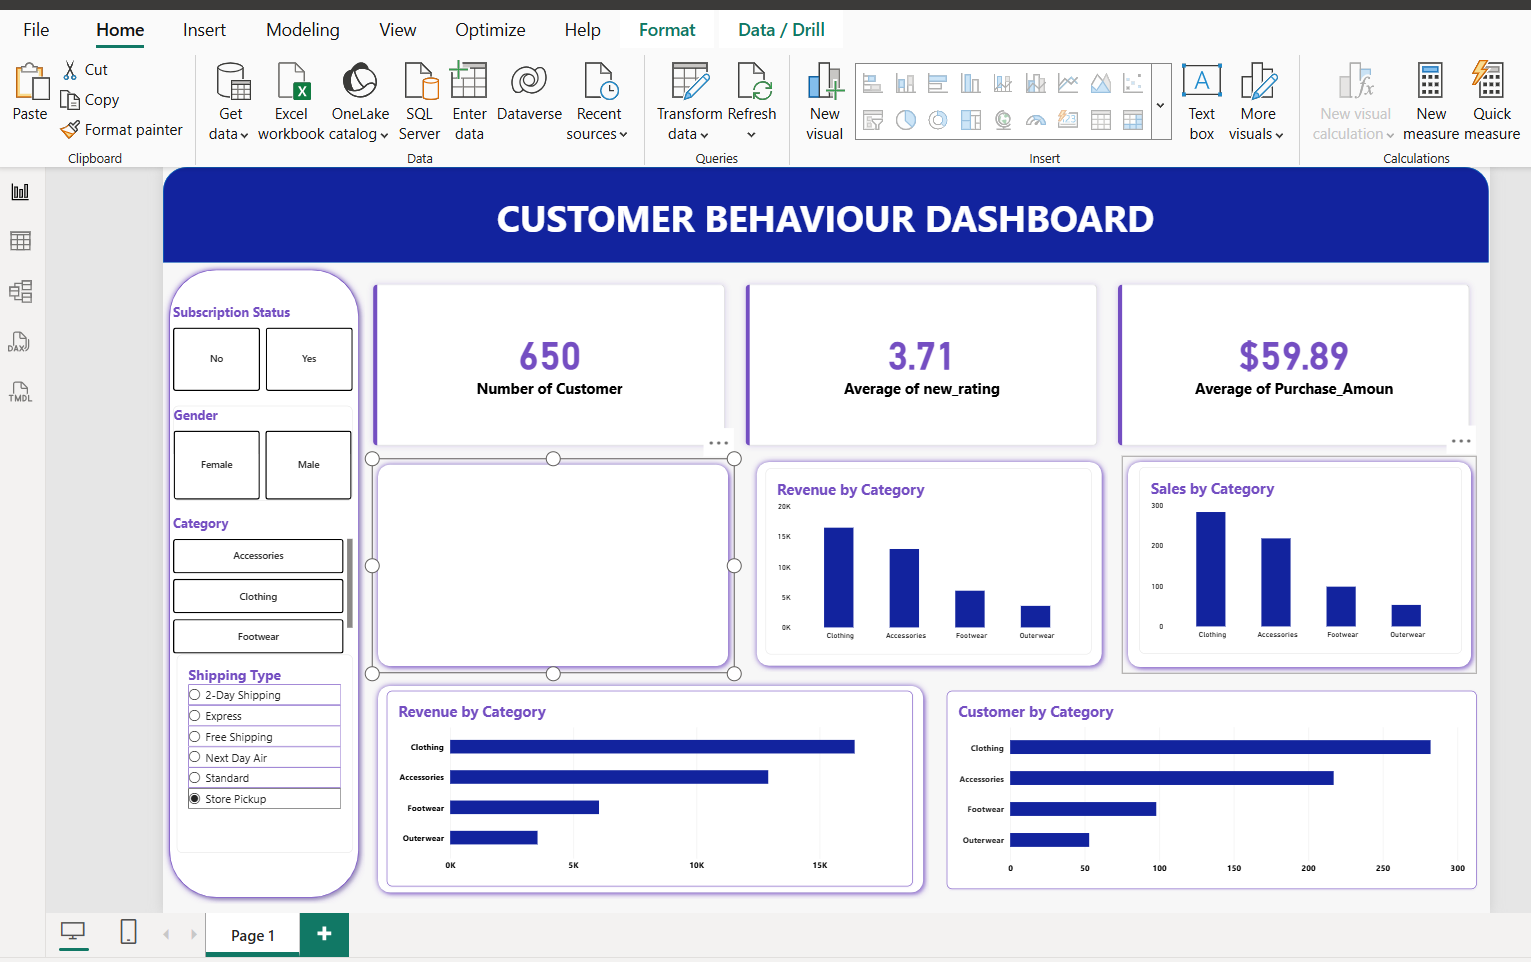

The dashboard page shown, as its layout file describes it:
{"tool":"powerbi","page":{"name":"Page 1","canvas":[1920,1080],"ordinal":0},"visuals":[{"type":"cardVisual","fields":{"Data":["cust.Number of customers","cust.average review rating","cust.Average purchase Amount"]},"box":[21.7,93.3,876.7,185],"z":0},{"type":"shape","box":[0,0,1920,68.3],"z":1000},{"type":"textbox","box":[195,216.2,1576.2,12.5],"z":2000},{"type":"textbox","box":[885,43,886,173],"z":3000},{"type":"textbox","box":[167.5,0,1570,67.5],"z":4000},{"type":"shape","box":[0,310,484,262],"z":5000},{"type":"donutChart","title":"No.of customers By subscription status","fields":{"Category":["cust.subscription_status"],"Y":["Sum(cust.customer_id)"]},"box":[22,328,440,230],"z":6000},{"type":"clusteredColumnChart","title":"Revenue  by Category","fields":{"Category":["cust.category"],"Y":["Sum(cust.purchase_amount)"]},"box":[1212,608,698,412],"z":7000},{"type":"clusteredColumnChart","title":"Sales by category","fields":{"Category":["cust.category"],"Y":["cust.Number of customers"]},"box":[983.3,93.3,903.3,480],"z":8000},{"type":"shape","box":[0,572,1212,242],"z":9000},{"type":"advancedSlicerVisual","fields":{"Values":["cust.subscription_status"]},"box":[32,634,326,148],"z":10000},{"type":"advancedSlicerVisual","title":"Gender","fields":{"Values":["cust.gender"]},"box":[382,634,310,150],"z":11000},{"type":"advancedSlicerVisual","title":"Category","fields":{"Values":["cust.category"]},"box":[706,632,462,150],"z":12000},{"type":"listSlicer","title":"Shipping Type","fields":{"Values":["cust.shipping_type"]},"box":[538,280,422,292],"z":13000},{"type":"clusteredBarChart","title":"Revenue by age group","fields":{"Category":["cust.age_group"],"Y":["Sum(cust.purchase_amount)"]},"box":[358,830,690,234],"z":13001}]}

Visuals, with their boxes on the page's 1920x1080 design canvas (x1, y1, x2, y2). These are canvas units, not pixel positions in the 1531x962 screenshot, which may show the page scaled, cropped or inside an application window:
cardVisual - cust.Number of customers x cust.average review rating: BBox(22, 93, 898, 278)
shape: BBox(0, 0, 1920, 68)
textbox: BBox(195, 216, 1771, 229)
textbox: BBox(885, 43, 1771, 216)
textbox: BBox(168, 0, 1738, 68)
shape: BBox(0, 310, 484, 572)
"No.of customers By subscription status" donutChart: BBox(22, 328, 462, 558)
"Revenue  by Category" clusteredColumnChart: BBox(1212, 608, 1910, 1020)
"Sales by category" clusteredColumnChart: BBox(983, 93, 1887, 573)
shape: BBox(0, 572, 1212, 814)
advancedSlicerVisual - cust.subscription_status: BBox(32, 634, 358, 782)
"Gender" advancedSlicerVisual: BBox(382, 634, 692, 784)
"Category" advancedSlicerVisual: BBox(706, 632, 1168, 782)
"Shipping Type" listSlicer: BBox(538, 280, 960, 572)
"Revenue by age group" clusteredBarChart: BBox(358, 830, 1048, 1064)
